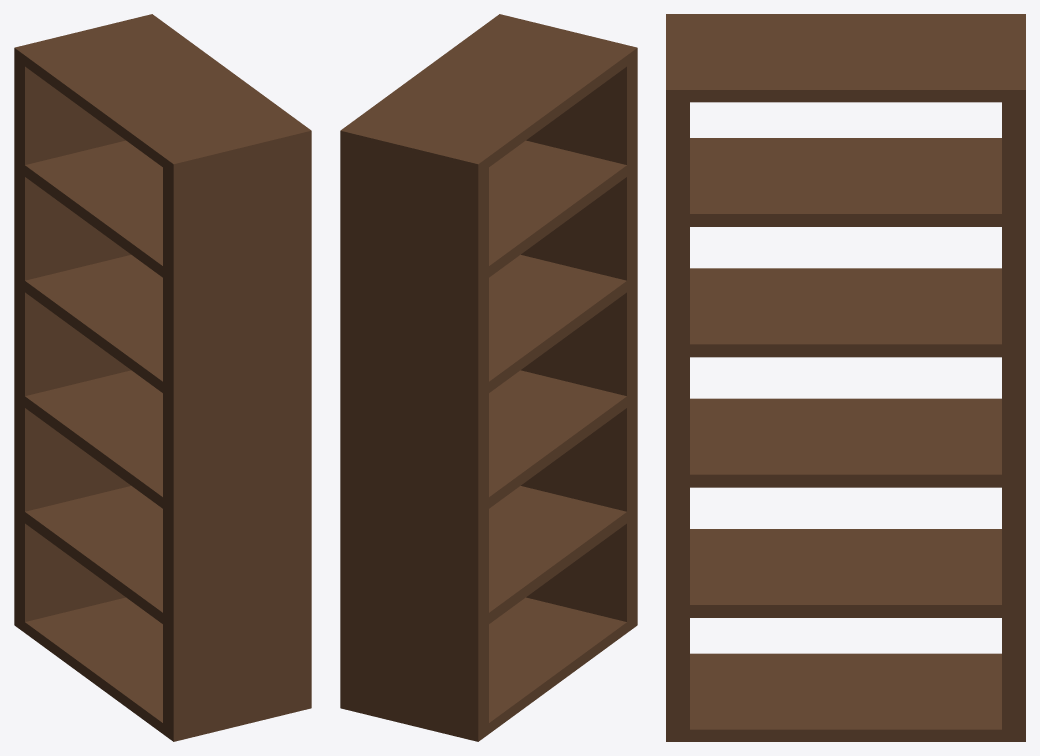
The model's file is shelf.fbx.
The picture shows the model from 3 angles, left to right: view 1: azimuth 30°, elevation 25°; view 2: azimuth 150°, elevation 25°; view 3: azimuth 270°, elevation 25°; orthographic projection. The views are drawn at different scales.
Parts seen in each view (by area): view 1: Cube; view 2: Cube; view 3: Cube.
Part boxes in pixels (left/top/right/bottom): Cube: left=14, top=14, right=311, bottom=741; Cube: left=340, top=14, right=637, bottom=741; Cube: left=666, top=14, right=1025, bottom=741.
Bounding box in the file's own units: 100 × 400 × 200.
